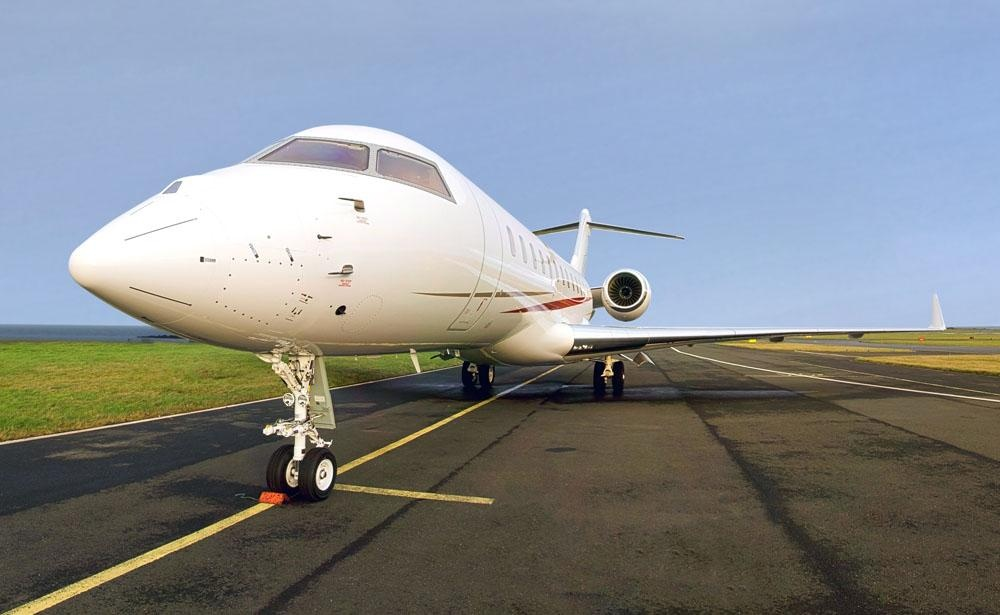airplane: (46, 119, 680, 506)
